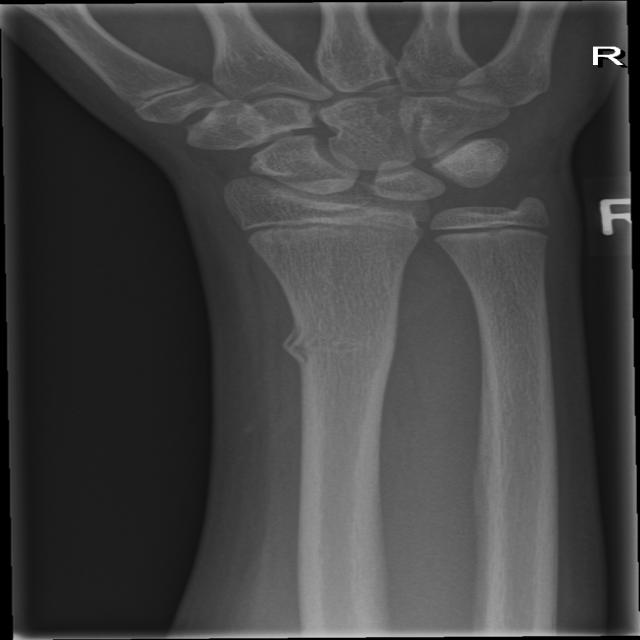radius fracture: (261, 292, 430, 436)
